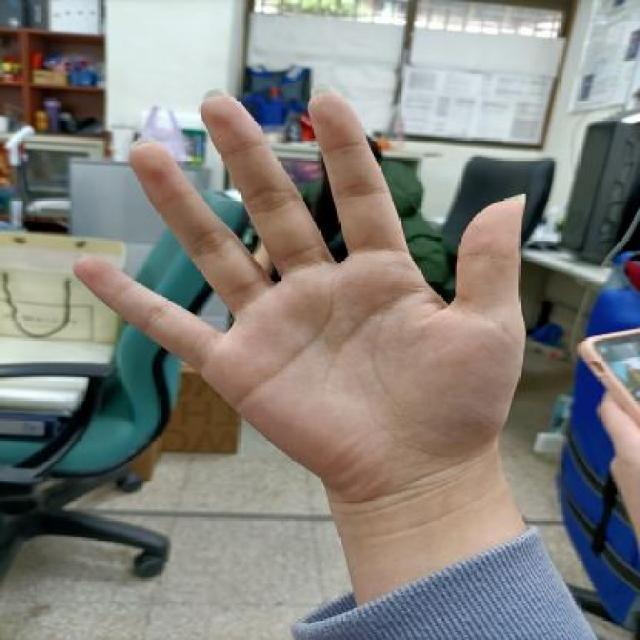Hand: (74, 84, 532, 521)
